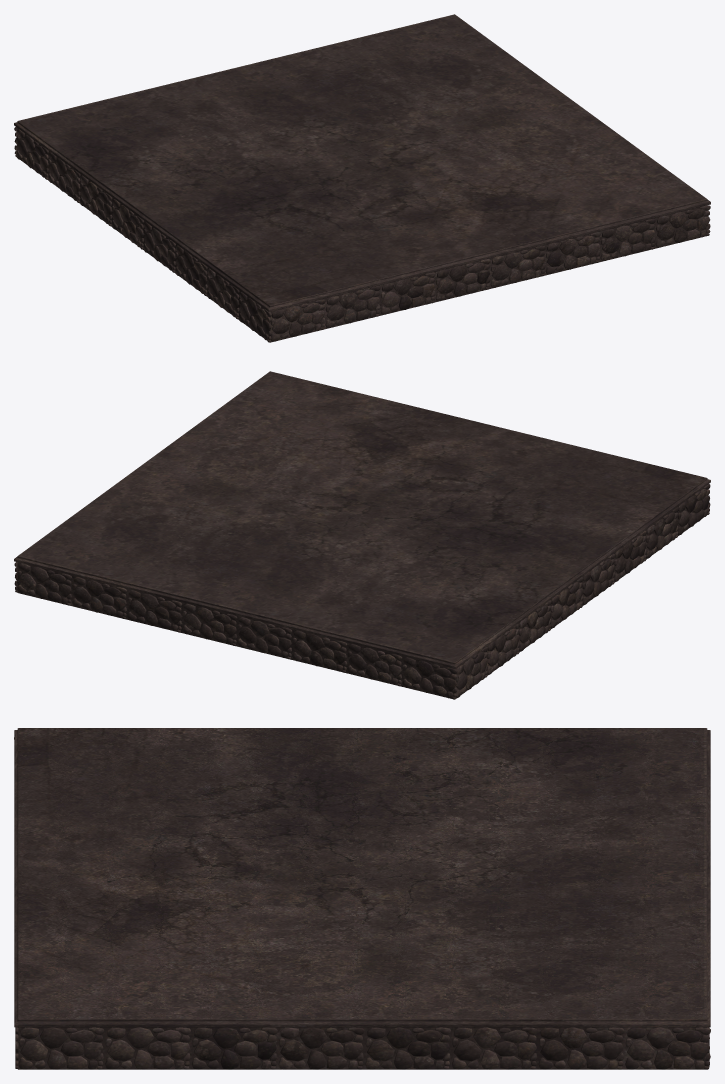
The model's file is SK3 BASE SMALL.fbx.
The picture shows the model from 3 angles, top to bottom: view 1: azimuth 30°, elevation 25°; view 2: azimuth 150°, elevation 25°; view 3: azimuth 270°, elevation 25°; orthographic projection. The views are drawn at different scales.
Visible parts, largest first — view 1: SK3 BASE SMALL; view 2: SK3 BASE SMALL; view 3: SK3 BASE SMALL.
Part boxes in pixels (x1=…): SK3 BASE SMALL: x1=14, y1=14, x2=710, y2=342; SK3 BASE SMALL: x1=14, y1=371, x2=710, y2=699; SK3 BASE SMALL: x1=14, y1=728, x2=710, y2=1069.
Size of the model in its own units: 1257 by 100 by 1257.
